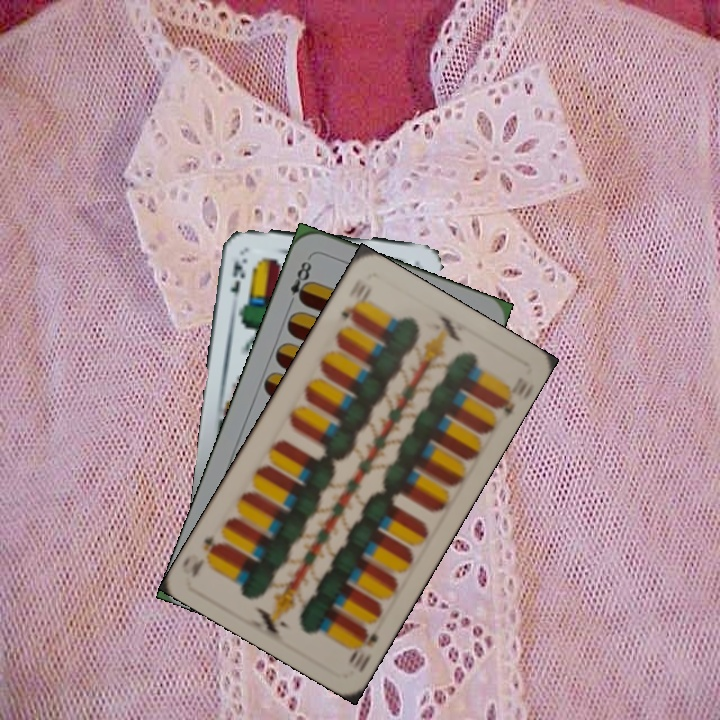E10: (344, 623, 381, 666), (337, 280, 368, 324)
E8: (284, 253, 314, 309)
EK: (226, 254, 250, 297)
